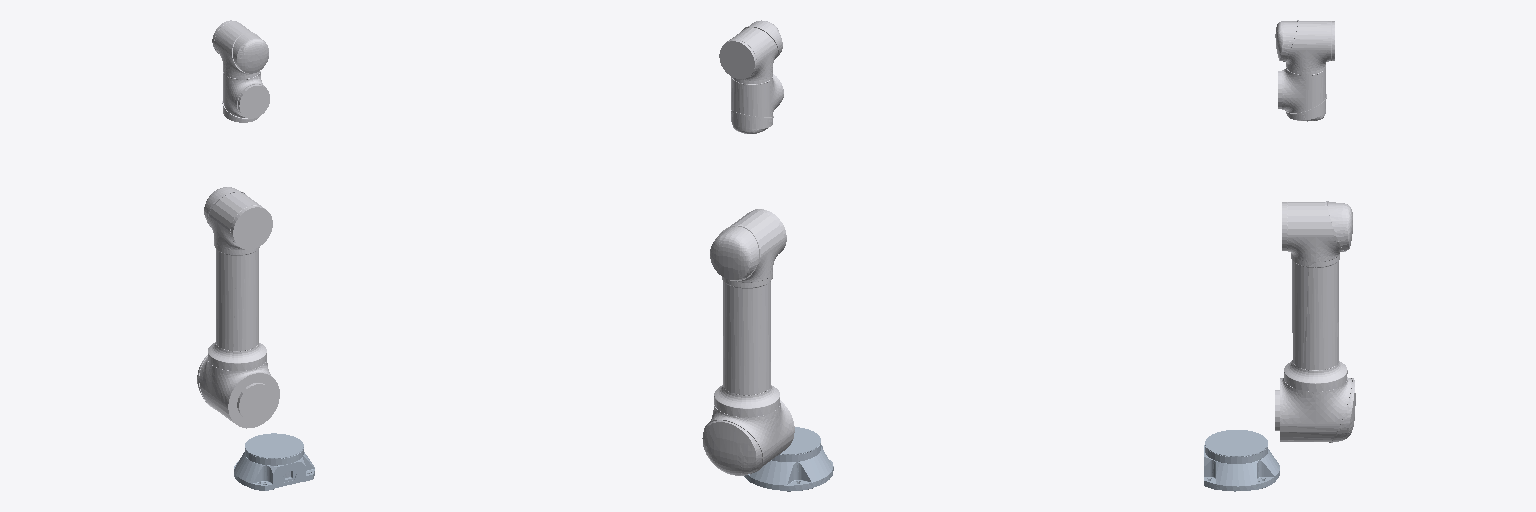
URDF robot description (gcr16_960):
<?xml version="1.0" encoding="utf-8"?>
<!-- This URDF was automatically created by SolidWorks to URDF Exporter! Originally created by [author] ([email redacted]) 
     Commit Version: 1.6.0-4-g7f85cfe  Build Version: 1.6.7995.38578
     For more information, please see http://wiki.ros.org/sw_urdf_exporter -->
<robot
  name="gcr16_960">
  <link
    name="base_link">
    <inertial>
      <origin
        xyz="5.4763E-05 0.0037178 0.036794"
        rpy="0 0 0" />
      <mass
        value="1.546" />
      <inertia
        ixx="0.010886"
        ixy="2.6436E-05"
        ixz="3.0259E-06"
        iyy="0.012295"
        iyz="0.00033306"
        izz="0.018228" />
    </inertial>
    <visual>
      <origin
        xyz="0 0 0"
        rpy="0 0 0" />
      <geometry>
        <mesh
          filename="package://duco_support/meshes/GCR16_960/base_link.stl" />
      </geometry>
      <material
        name="">
        <color
          rgba="0.73333 0.78039 0.83922 1" />
      </material>
    </visual>
    <collision>
      <origin
        xyz="0 0 0"
        rpy="0 0 0" />
      <geometry>
        <mesh
          filename="package://duco_support/meshes/GCR16_960/base_link.stl" />
      </geometry>
    </collision>
  </link>
  <link
    name="link_1">
    <inertial>
      <origin
        xyz="-4.7465E-05 0.014743 0.031796"
        rpy="0 0 0" />
      <mass
        value="8.846" />
      <inertia
        ixx="0.0025215"
        ixy="-4.7337E-07"
        ixz="5.6092E-07"
        iyy="0.0021306"
        iyz="0.00018116"
        izz="0.0020381" />
    </inertial>
    <visual>
      <origin
        xyz="0 0 0"
        rpy="0 0 0" />
      <geometry>
        <mesh
          filename="package://duco_support/meshes/GCR16_960/link_1.stl" />
      </geometry>
      <material
        name="">
        <color
          rgba="0.86667 0.86667 0.8902 1" />
      </material>
    </visual>
    <collision>
      <origin
        xyz="0 0 0"
        rpy="0 0 0" />
      <geometry>
        <mesh
          filename="package://duco_support/meshes/GCR16_960/link_1.stl" />
      </geometry>
    </collision>
  </link>
  <joint
    name="arm_1_joint_1"
    type="revolute">
    <origin
      xyz="0 0 0.165"
      rpy="0 0 0" />
    <parent
      link="base_link" />
    <child
      link="link_1" />
    <axis
      xyz="0 0 1" />
    <limit
      lower="-3.1415926"
      upper="3.1415926"
      effort="440"
      velocity="3.1415926535" />
  </joint>
  <link
    name="link_2">
    <inertial>
      <origin
        xyz="0.25399 5.41E-05 0.051619"
        rpy="0 0 0" />
      <mass
        value="16.031" />
      <inertia
        ixx="0.0036414"
        ixy="-1.3646E-06"
        ixz="-0.00051306"
        iyy="0.0072927"
        iyz="-1.8054E-06"
        izz="0.0064978" />
    </inertial>
    <visual>
      <origin
        xyz="0 0 0"
        rpy="0 0 0" />
      <geometry>
        <mesh
          filename="package://duco_support/meshes/GCR16_960/link_2.stl" />
      </geometry>
      <material
        name="">
        <color
          rgba="0.86667 0.86667 0.8902 1" />
      </material>
    </visual>
    <collision>
      <origin
        xyz="0 0 0"
        rpy="0 0 0" />
      <geometry>
        <mesh
          filename="package://duco_support/meshes/GCR16_960/link_2.stl" />
      </geometry>
    </collision>
  </link>
  <joint
    name="arm_1_joint_2"
    type="revolute">
    <origin
      xyz="0 0.164 0"
      rpy="1.5708 -1.5708 3.1416" />
    <parent
      link="link_1" />
    <child
      link="link_2" />
    <axis
      xyz="0 0 1" />
    <limit
      lower="-3.1415926535"
      upper="3.1415926535"
      effort="440"
      velocity="3.1415926535" />
  </joint>
  <link
    name="link_3">
    <inertial>
      <origin
        xyz="0.27865 -1.4769E-05 -0.11158"
        rpy="0 0 0" />
      <mass
        value="4.402" />
      <inertia
        ixx="0.0018934"
        ixy="-5.6281E-06"
        ixz="-0.00013143"
        iyy="0.010927"
        iyz="-1.203E-06"
        izz="0.0099804" />
    </inertial>
    <visual>
      <origin
        xyz="0 0 0"
        rpy="0 0 0" />
      <geometry>
        <mesh
          filename="package://duco_support/meshes/GCR16_960/link_3.stl" />
      </geometry>
      <material
        name="">
        <color
          rgba="0.86667 0.86667 0.8902 1" />
      </material>
    </visual>
    <collision>
      <origin
        xyz="0 0 0"
        rpy="0 0 0" />
      <geometry>
        <mesh
          filename="package://duco_support/meshes/GCR16_960/link_3.stl" />
      </geometry>
    </collision>
  </link>
  <joint
    name="arm_1_joint_3"
    type="revolute">
    <origin
      xyz="0.478 0 0"
      rpy="0 0 0" />
    <parent
      link="link_2" />
    <child
      link="link_3" />
    <axis
      xyz="0 0 1" />
    <limit
      lower="-3.1415926535"
      upper="3.1415926535"
      effort="205"
      velocity="3.926990817" />
  </joint>
  <link
    name="link_4">
    <inertial>
      <origin
        xyz="4.521E-06 -0.014718 -0.00010096"
        rpy="0 0 0" />
      <mass
        value="2.419" />
      <inertia
        ixx="0.0013622"
        ixy="-8.6396E-08"
        ixz="-9.5947E-08"
        iyy="0.00054408"
        iyz="-2.396E-05"
        izz="0.0013222" />
    </inertial>
    <visual>
      <origin
        xyz="0 0 0"
        rpy="0 0 0" />
      <geometry>
        <mesh
          filename="package://duco_support/meshes/GCR16_960/link_4.stl" />
      </geometry>
      <material
        name="">
        <color
          rgba="0.86667 0.86667 0.8902 1" />
      </material>
    </visual>
    <collision>
      <origin
        xyz="0 0 0"
        rpy="0 0 0" />
      <geometry>
        <mesh
          filename="package://duco_support/meshes/GCR16_960/link_4.stl" />
      </geometry>
    </collision>
  </link>
  <joint
    name="arm_1_joint_4"
    type="revolute">
    <origin
      xyz="0.356 0 0"
      rpy="0 0 1.5708" />
    <parent
      link="link_3" />
    <child
      link="link_4" />
    <axis
      xyz="0 0 1" />
    <limit
      lower="-3.1415926535"
      upper="3.1415926535"
      effort="75"
      velocity="3.926990817" />
  </joint>
  <link
    name="link_5">
    <inertial>
      <origin
        xyz="-4.4955E-06 0.014718 -0.00010066"
        rpy="0 0 0" />
      <mass
        value="2.419" />
      <inertia
        ixx="0.0013622"
        ixy="-8.641E-08"
        ixz="9.6271E-08"
        iyy="0.00054408"
        iyz="2.396E-05"
        izz="0.0013222" />
    </inertial>
    <visual>
      <origin
        xyz="0 0 0"
        rpy="0 0 0" />
      <geometry>
        <mesh
          filename="package://duco_support/meshes/GCR16_960/link_5.stl" />
      </geometry>
      <material
        name="">
        <color
          rgba="0.86667 0.86667 0.8902 1" />
      </material>
    </visual>
    <collision>
      <origin
        xyz="0 0 0"
        rpy="0 0 0" />
      <geometry>
        <mesh
          filename="package://duco_support/meshes/GCR16_960/link_5.stl" />
      </geometry>
    </collision>
  </link>
  <joint
    name="arm_1_joint_5"
    type="revolute">
    <origin
      xyz="0 -0.126 0"
      rpy="1.5708 0 0" />
    <parent
      link="link_4" />
    <child
      link="link_5" />
    <axis
      xyz="0 0 1" />
    <limit
      lower="-3.1415926"
      upper="3.1415926"
      effort="75"
      velocity="3.926990817" />
  </joint>
  <link
    name="link_6">
    <inertial>
      <origin
        xyz="3.0612E-16 9.0281E-09 -0.024174"
        rpy="0 0 0" />
      <mass
        value="0.488" />
      <inertia
        ixx="0.00044067"
        ixy="7.3268E-20"
        ixz="7.7588E-20"
        iyy="0.00044067"
        iyz="5.7644E-20"
        izz="0.00077308" />
    </inertial>
    <visual>
      <origin
        xyz="0 0 0"
        rpy="0 0 0" />
      <geometry>
        <mesh
          filename="package://duco_support/meshes/GCR16_960/link_6.stl" />
      </geometry>
      <material
        name="">
        <color
          rgba="0.86667 0.86667 0.8902 1" />
      </material>
    </visual>
    <collision>
      <origin
        xyz="0 0 0"
        rpy="0 0 0" />
      <geometry>
        <mesh
          filename="package://duco_support/meshes/GCR16_960/link_6.stl" />
      </geometry>
    </collision>
  </link>
  <joint
    name="arm_1_joint_6"
    type="revolute">
    <origin
      xyz="0 0.113 0"
      rpy="-1.5708 0 0" />
    <parent
      link="link_5" />
    <child
      link="link_6" />
    <axis
      xyz="0 0 1" />
    <limit
      lower="-3.1415926"
      upper="3.1415926"
      effort="75"
      velocity="3.926990817" />
  </joint>
</robot>

--- Facts derived from the render (not from the file) ---
The picture shows the robot from 3 angles, left to right: view 1: azimuth 30°, elevation 25°; view 2: azimuth 150°, elevation 25°; view 3: azimuth 270°, elevation 25°; orthographic projection.
Model gcr16_960 with 7 links and 6 joints (6 revolute), rooted at base_link, posed every joint at zero.
Visible links, largest first — view 1: link_2, base_link, link_5, link_4; view 2: link_2, base_link, link_5, link_4; view 3: link_2, base_link, link_5, link_4.
Boxes of the visible links, x1,y1,x2,y2 form: link_2: (197, 187, 279, 428); base_link: (234, 433, 314, 490); link_5: (212, 20, 268, 75); link_4: (222, 69, 269, 122); link_2: (702, 209, 794, 475); base_link: (744, 427, 833, 491); link_5: (719, 20, 782, 80); link_4: (731, 74, 783, 133); link_2: (1275, 201, 1355, 442); base_link: (1204, 430, 1279, 491); link_5: (1275, 20, 1334, 71); link_4: (1278, 65, 1326, 121).
Size in the robot's own frame: 0.2048 by 0.3565 by 1.17 metres.
4 mesh visuals loaded from 7 distinct referenced files (4 binary STL); not drawn: 3 (reference not matched to a file when rendering).